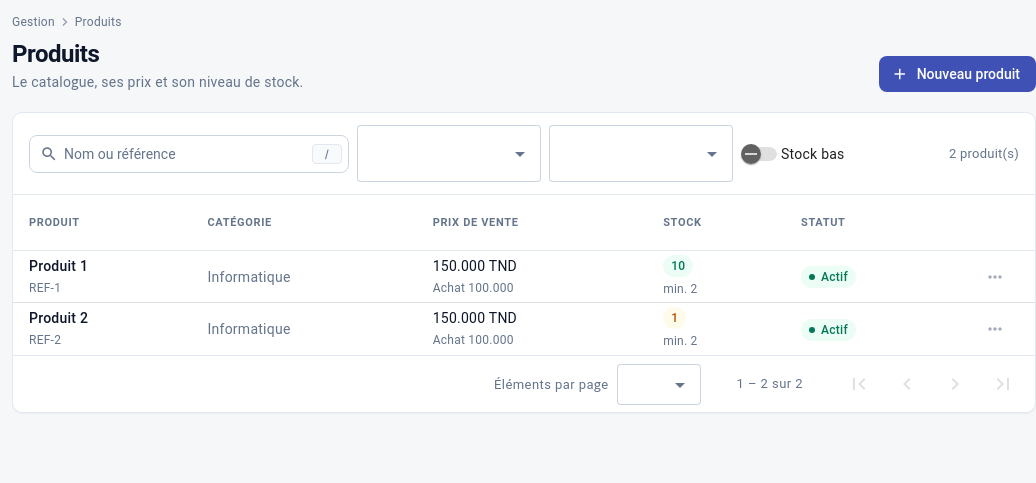
Test case: ProductListComponent › gives a manager the category filter and the actions
Click the 1st button with class "row-menu-button".
click(995, 276)  # box [971,252,1019,300]
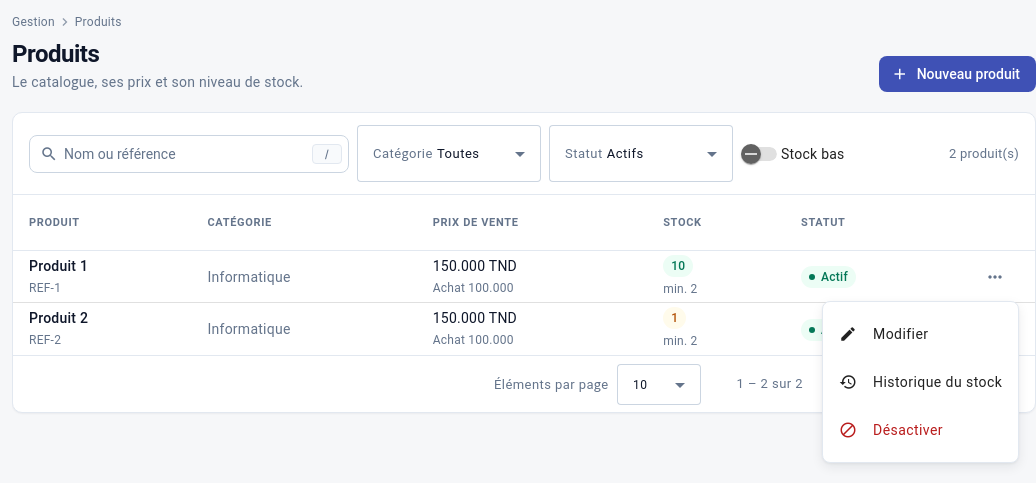
Expected: the menu item with class "deactivate-button" is shown, [823,406,1018,454]
